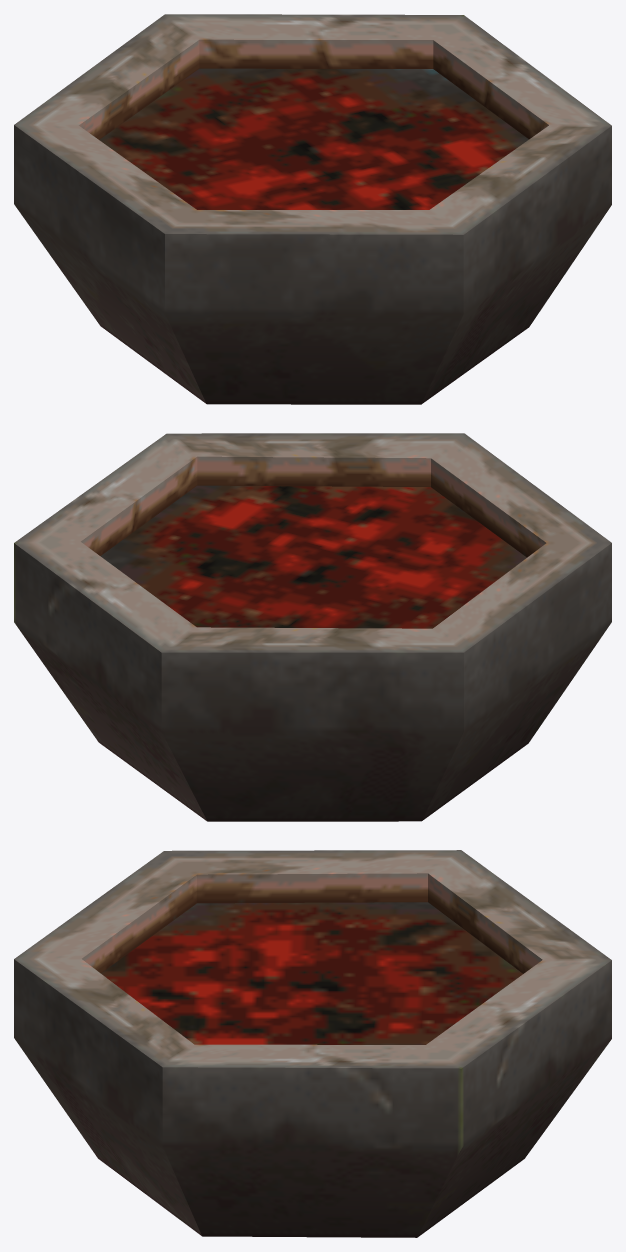
File: yj_huopeng_1.FBX
3 views of the same model, one above another, from view 1: azimuth 30°, elevation 25°; view 2: azimuth 150°, elevation 25°; view 3: azimuth 270°, elevation 25° (orthographic).
Parts seen in each view (by area): view 1: yj_huopeng_1; view 2: yj_huopeng_1; view 3: yj_huopeng_1.
Part boxes in pixels (<box>): yj_huopeng_1: <box>14,14,611,404</box>; yj_huopeng_1: <box>14,433,611,821</box>; yj_huopeng_1: <box>14,850,611,1237</box>.
Size of the model in its own units: 9.22 by 3.93 by 10.67.
